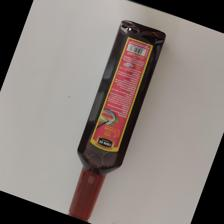Namngu: (64, 20, 167, 224)
